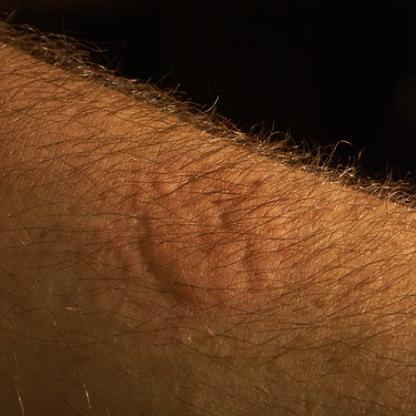Bed Bug: (98, 162, 298, 315)
